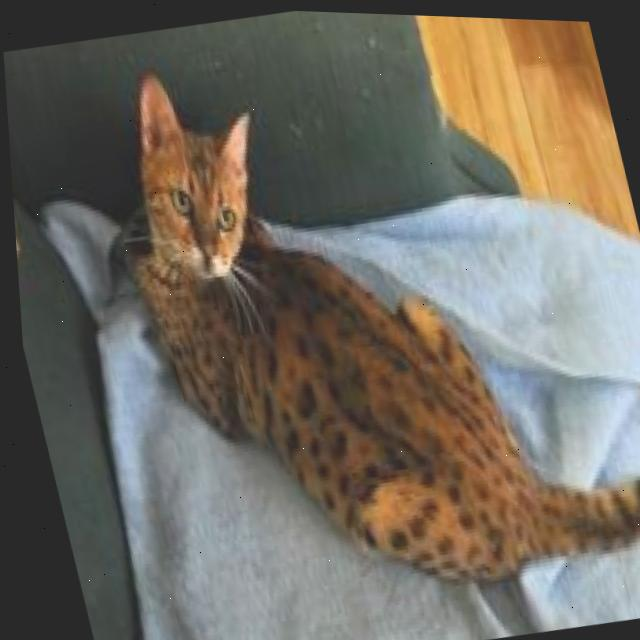Bengal: (72, 2, 640, 640)
